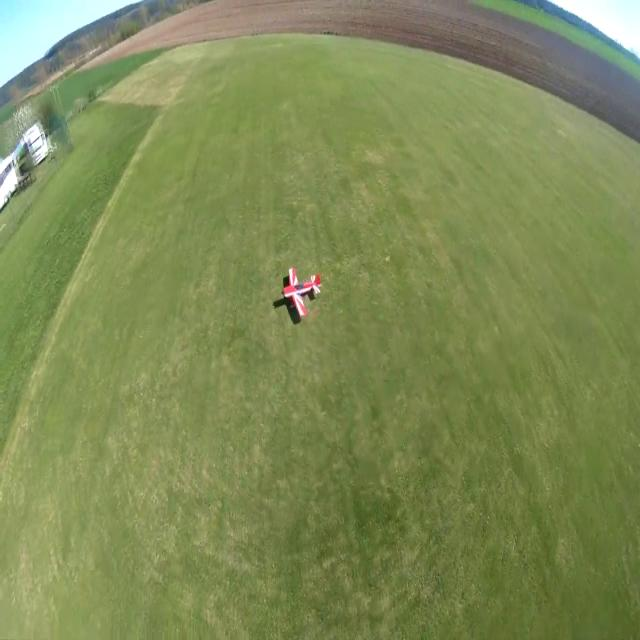iha: (278, 265, 320, 321)
